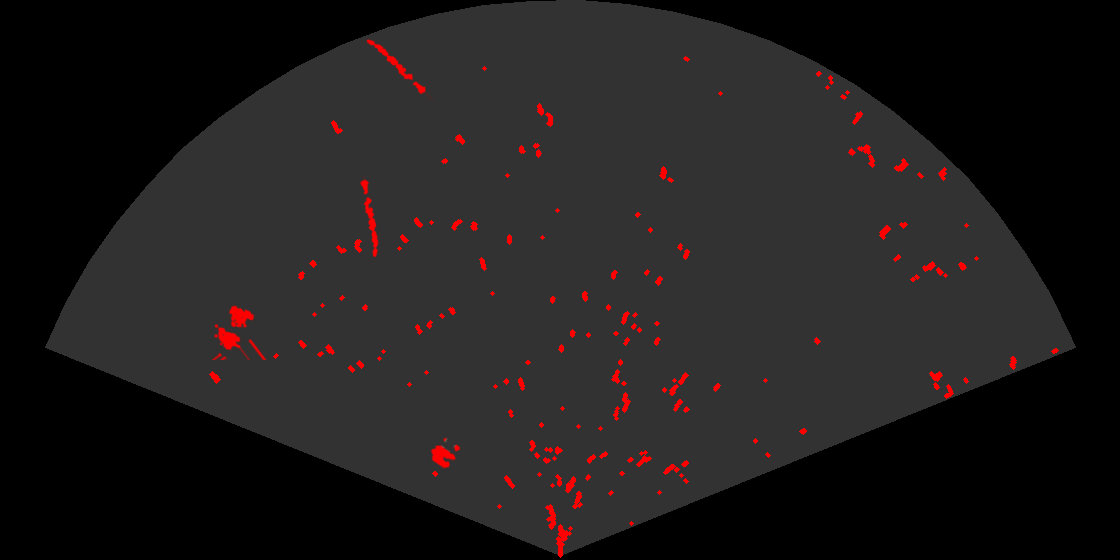ball: (429, 436, 462, 470)
cage: (210, 304, 268, 360)
chain: (365, 38, 435, 100), (359, 176, 380, 259)
